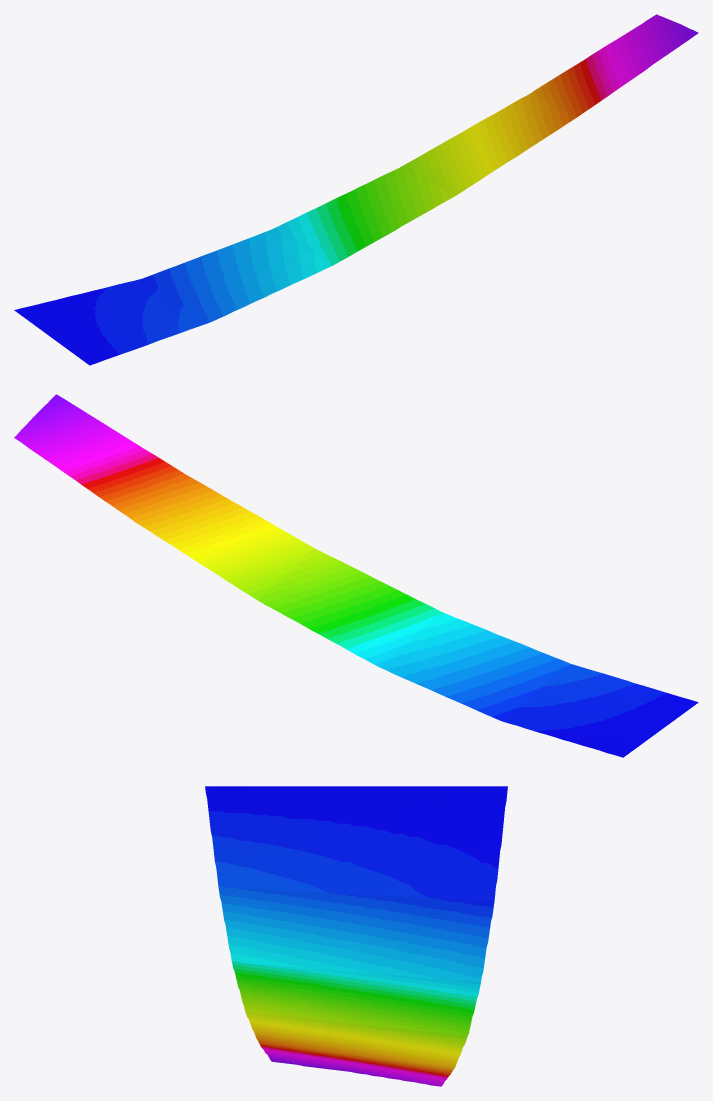
3 renders of one model, top to bottom at view 1: azimuth 30°, elevation 25°; view 2: azimuth 150°, elevation 25°; view 3: azimuth 270°, elevation 25°, orthographic. The views are drawn at different scales.
Visible parts, largest first — view 1: Elements; view 2: Elements; view 3: Elements.
Part boxes in pixels (x1,y1,x2,y2): Elements: (14,14,698,365); Elements: (14,394,698,757); Elements: (205,786,507,1086).
Size of the model in its own units: 1 by 0.256 by 0.2096.
1 material, 1 textured.
